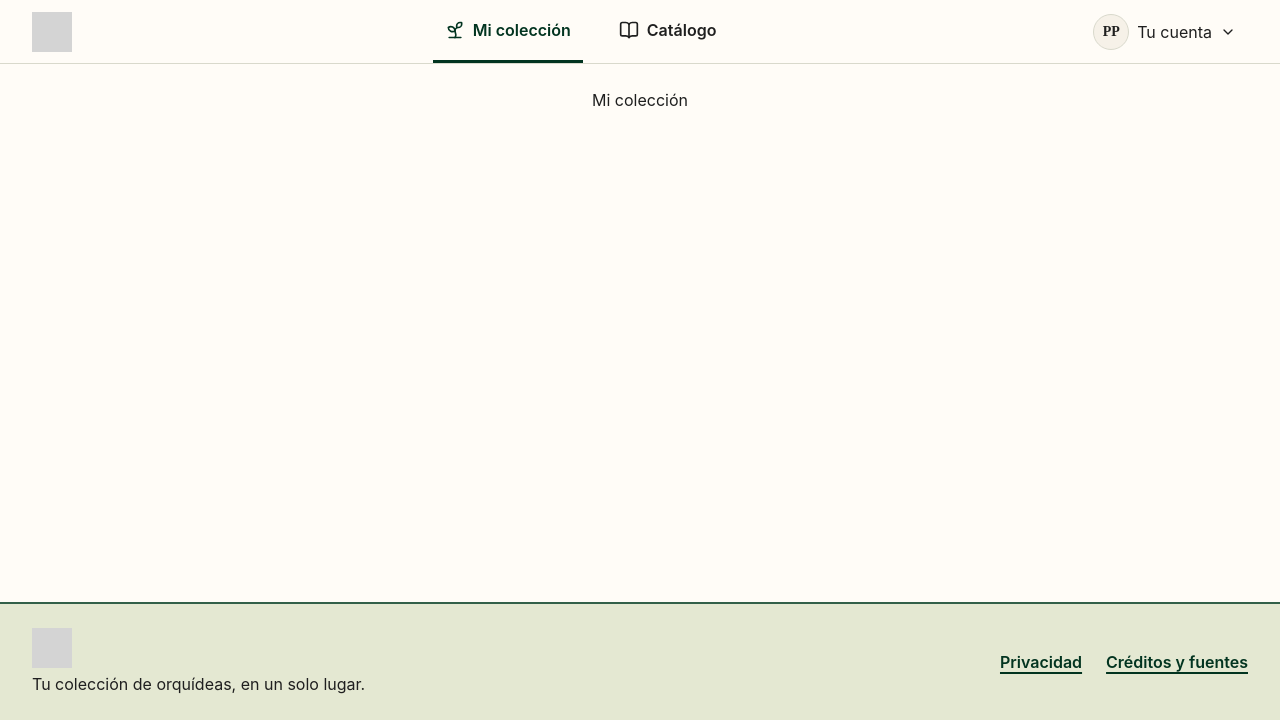
it: menú «Tu cuenta» › el administrador ve «Administración»
Click the button "PP Tu cuenta": (1169, 32) top-left (1089, 8), bottom-right (1248, 56)
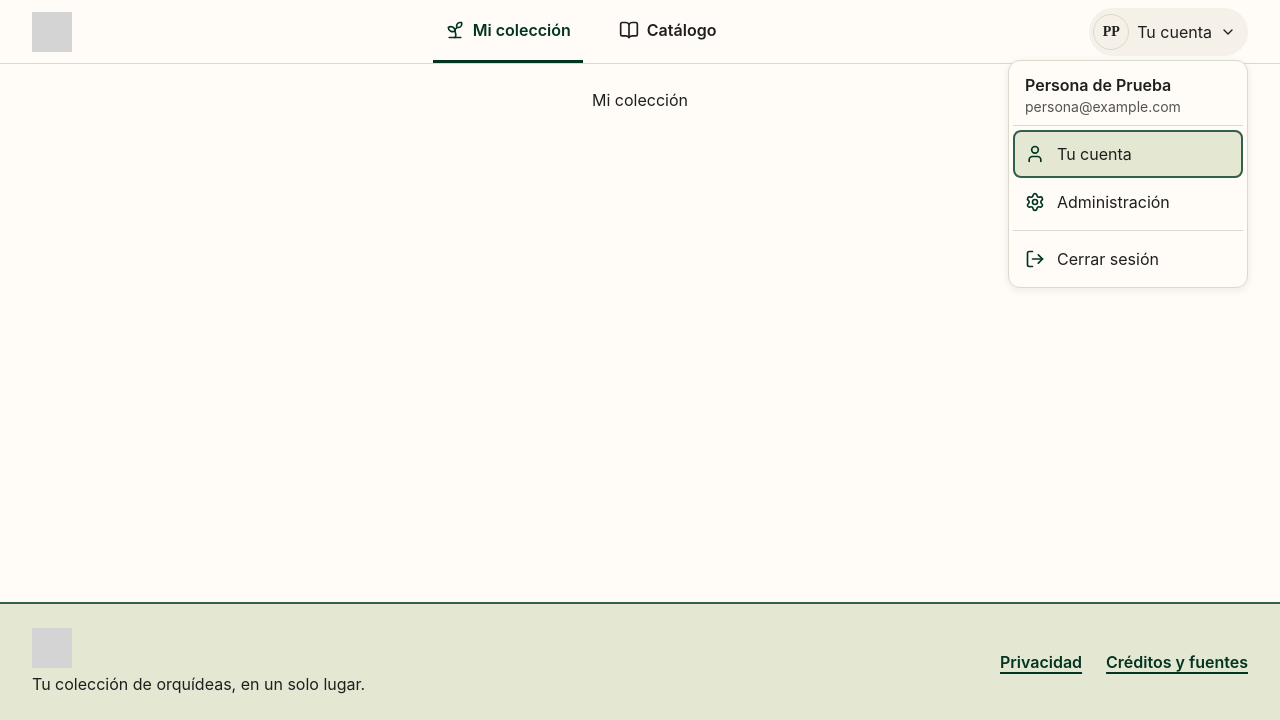
Click the menu item "Administración": (1097, 202) top-left (1025, 192), bottom-right (1170, 212)
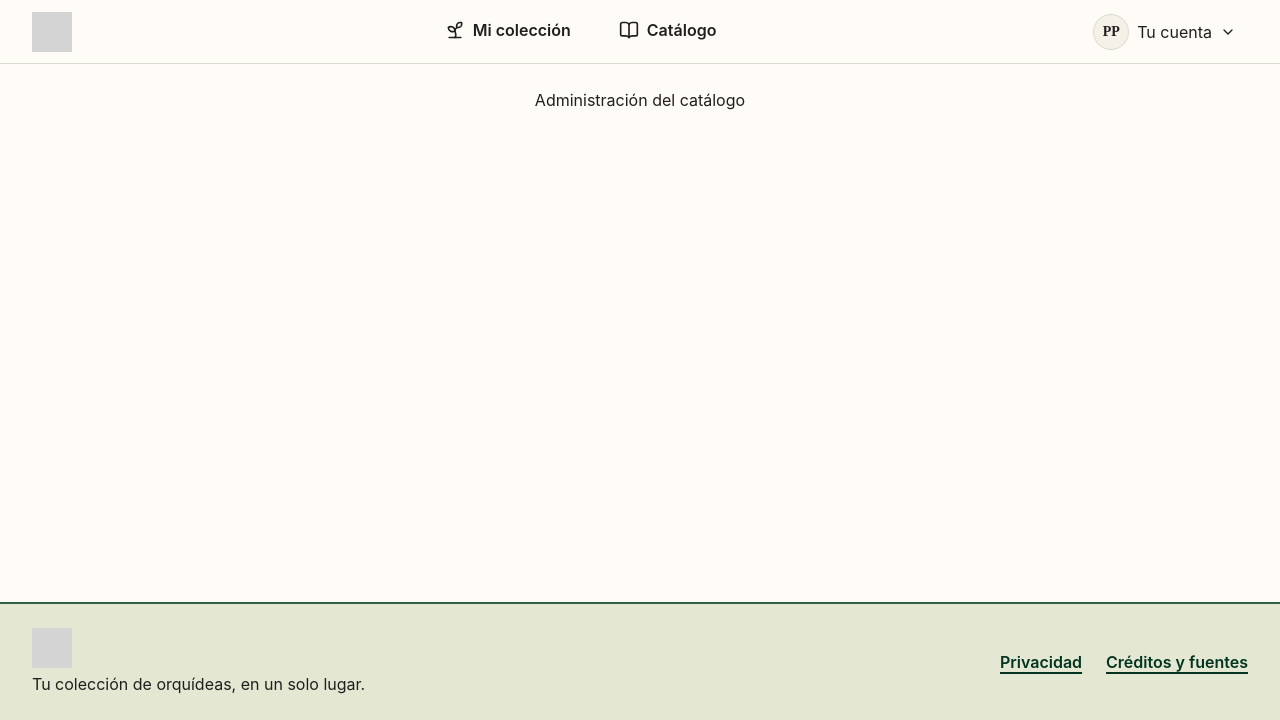
Result: the heading "Administración del catálogo" is shown at top-left (535, 88), bottom-right (745, 112)
